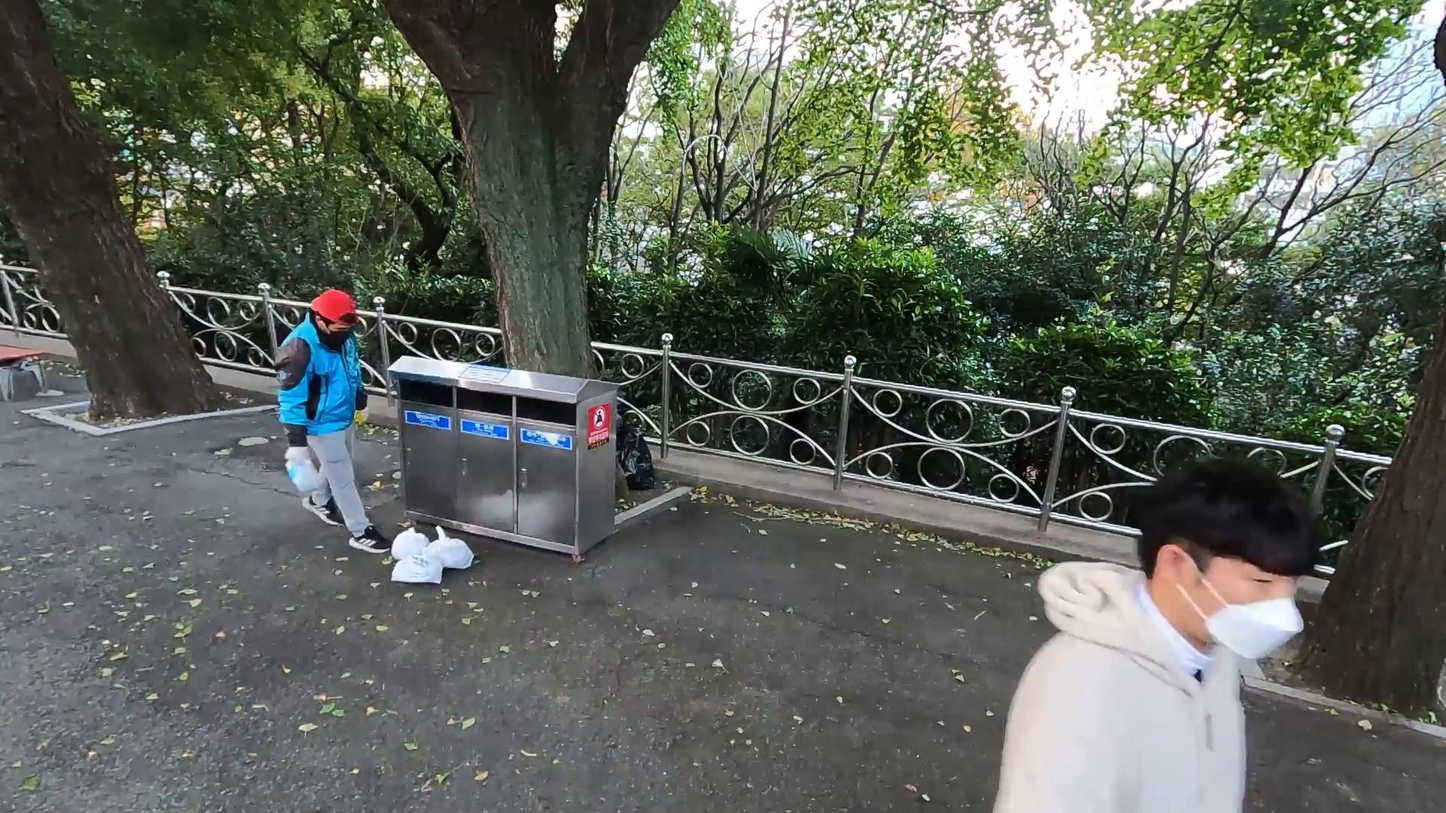person: (988, 443, 1318, 813), (259, 279, 395, 564)
trash: (616, 414, 660, 494), (421, 525, 476, 576), (282, 454, 332, 500), (391, 552, 444, 589), (389, 527, 436, 562)
